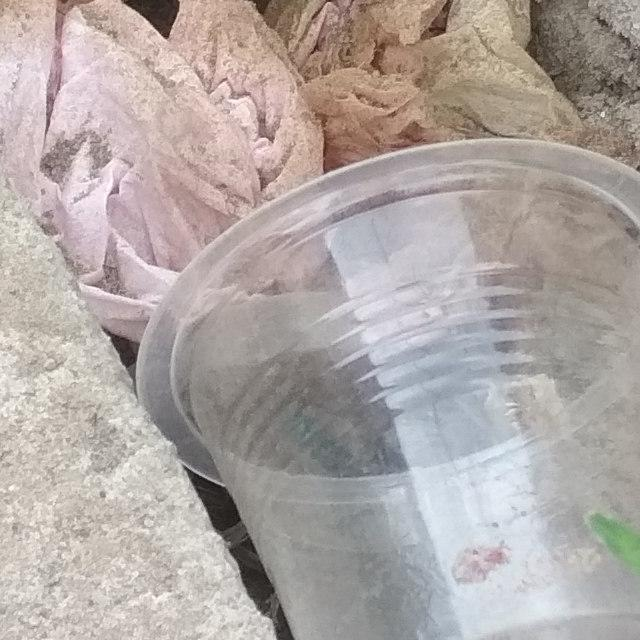plastic: (81, 58, 640, 640)
